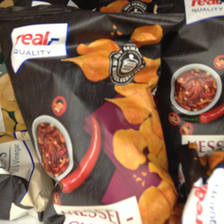chips: (1, 9, 180, 224)
